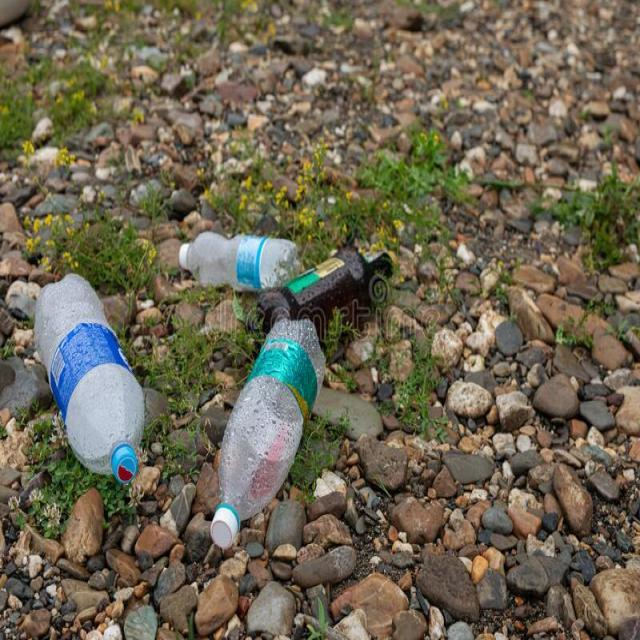plastic: (204, 307, 330, 558), (26, 255, 154, 500), (169, 216, 310, 299)
